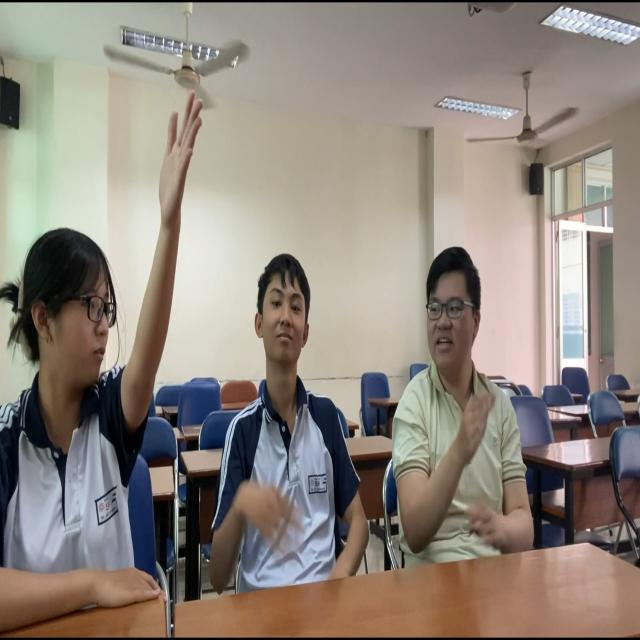raise_hand: (5, 87, 203, 577)
